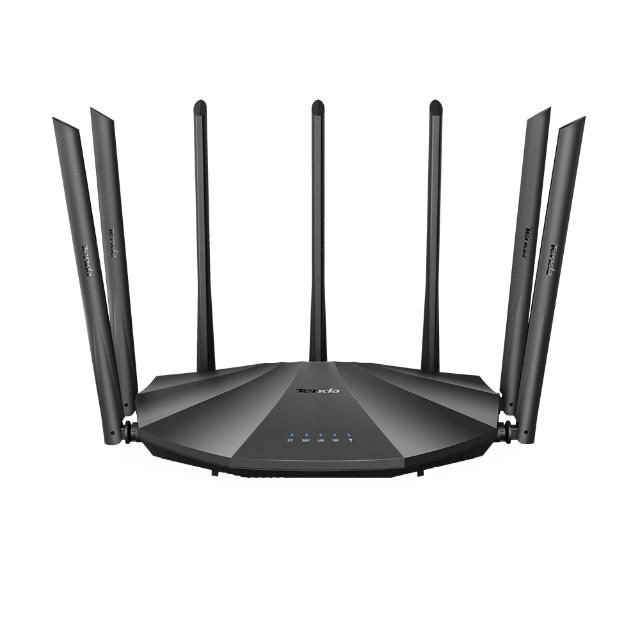Router: (56, 102, 584, 480)
